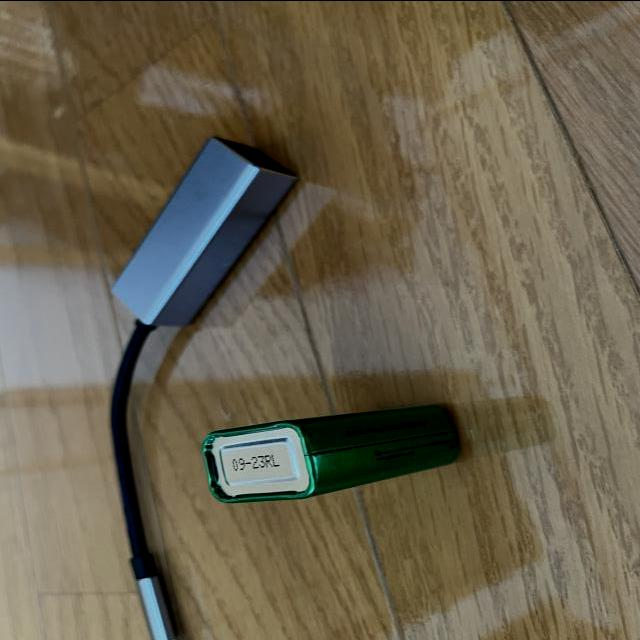9V: (204, 405, 459, 503)
